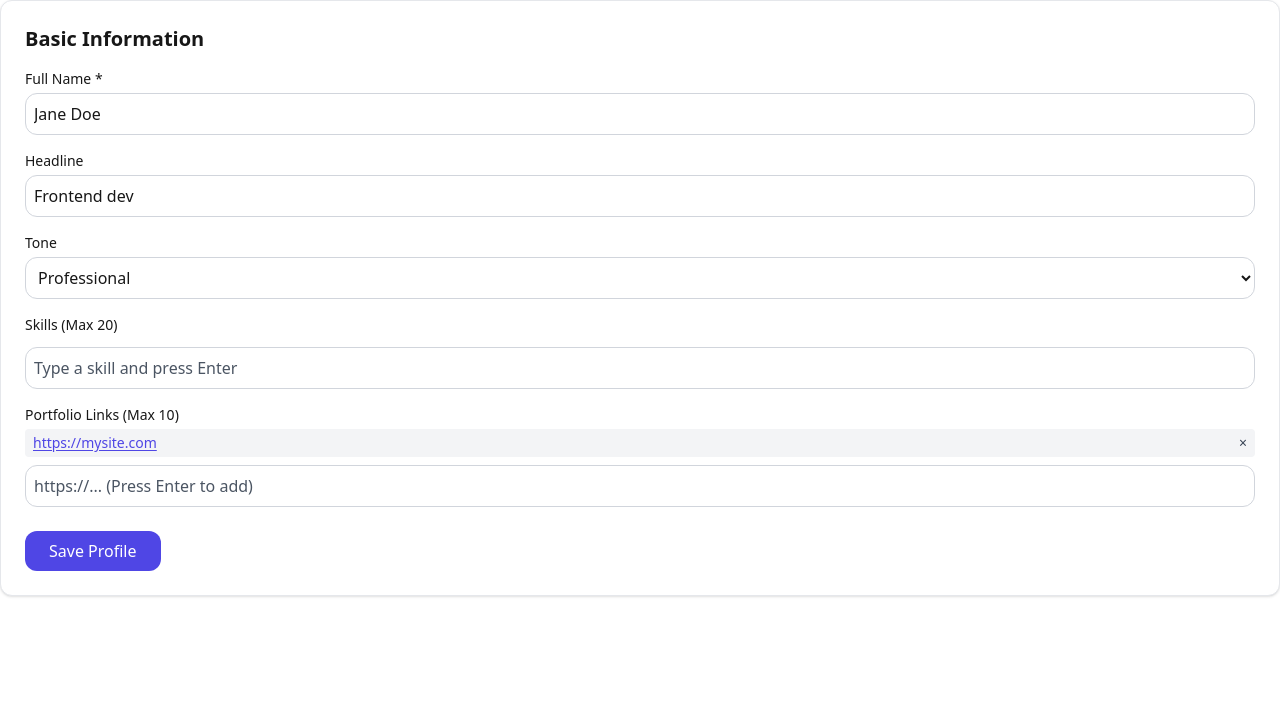
it: ProfileForm – portfolio link validation › removes a portfolio link when × button is clicked
Check: the link "https://mysite.com" is shown, box 33,433 -> 157,453
Click the button named "Remove link https://mysite.com" at (1243, 443), box 1239,433 -> 1247,453
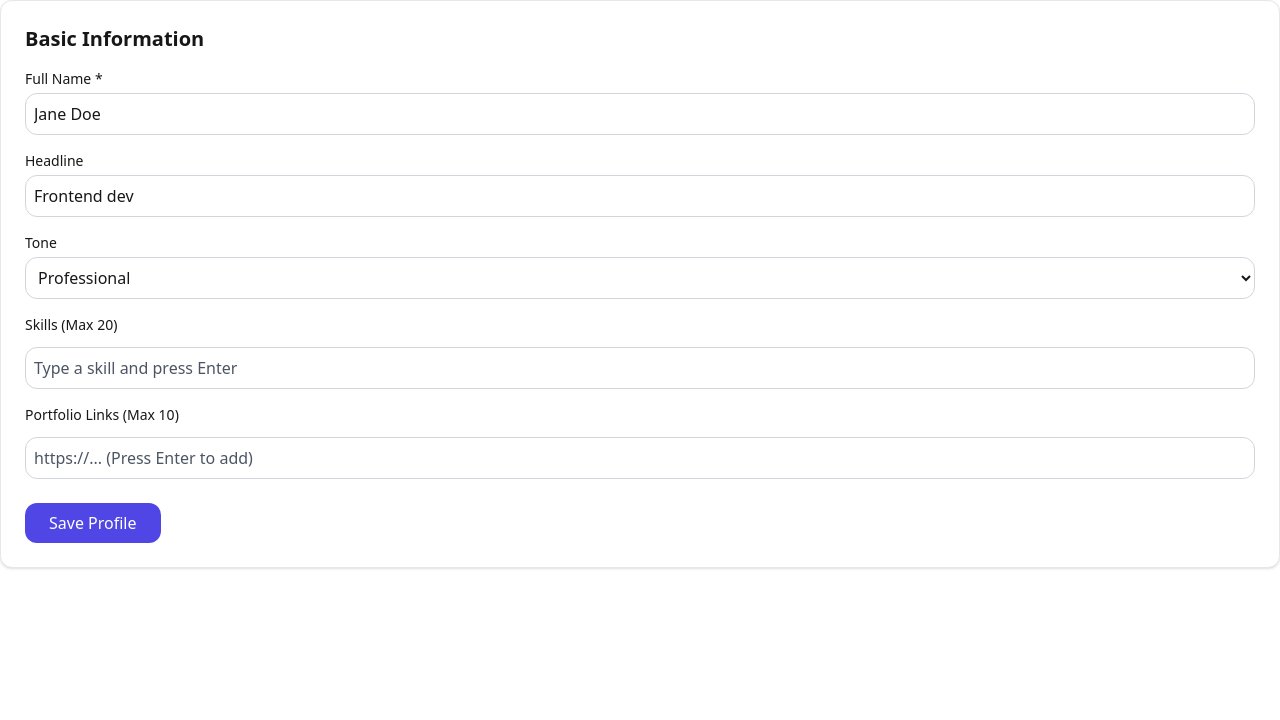
Check: the link "https://mysite.com" is gone
